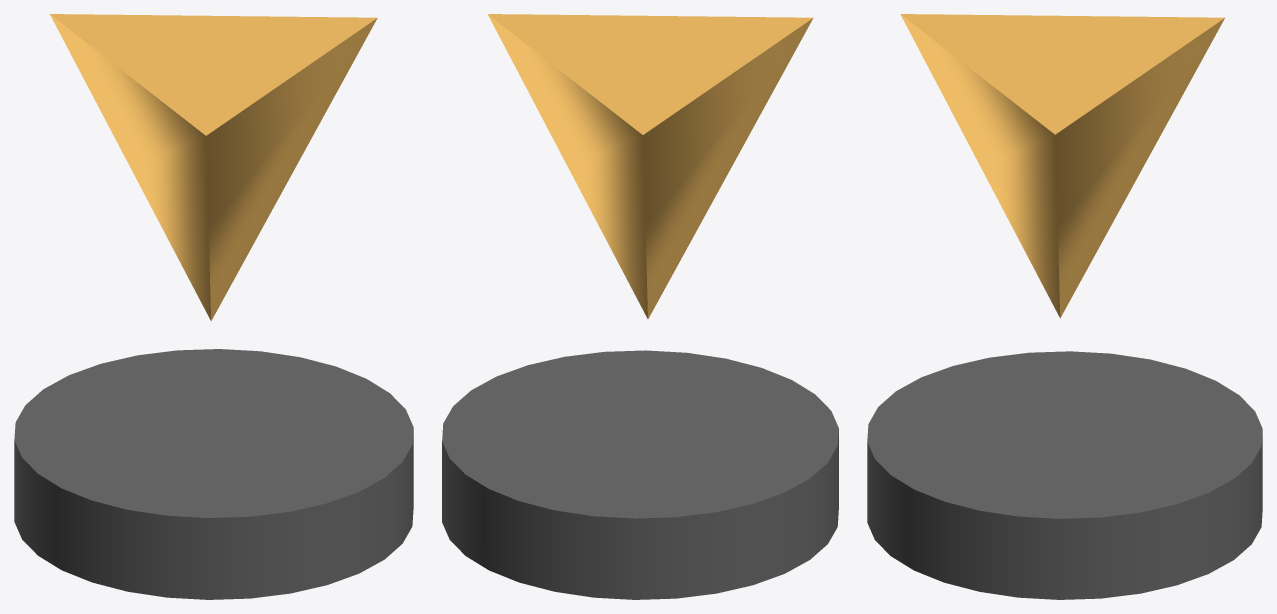
The model's file is pyrOrange.glb.
3 renders of one model, left to right at view 1: azimuth 30°, elevation 25°; view 2: azimuth 150°, elevation 25°; view 3: azimuth 270°, elevation 25°, orthographic.
Visible parts, largest first — view 1: 008_Cylinder_-_baked_10, 007_Cone_2; view 2: 008_Cylinder_-_baked_10, 007_Cone_2; view 3: 008_Cylinder_-_baked_10, 007_Cone_2.
Part boxes in pixels (x1,y1,x2,y2): 008_Cylinder_-_baked_10: (14, 349, 413, 599); 007_Cone_2: (50, 14, 377, 320); 008_Cylinder_-_baked_10: (442, 350, 838, 599); 007_Cone_2: (487, 14, 813, 318); 008_Cylinder_-_baked_10: (867, 351, 1262, 599); 007_Cone_2: (900, 14, 1224, 318).
Size of the model in its own units: 17.34 by 22.11 by 17.29.
